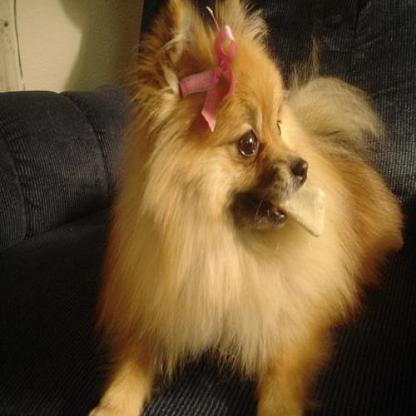Pomeranian: (89, 0, 404, 414)
